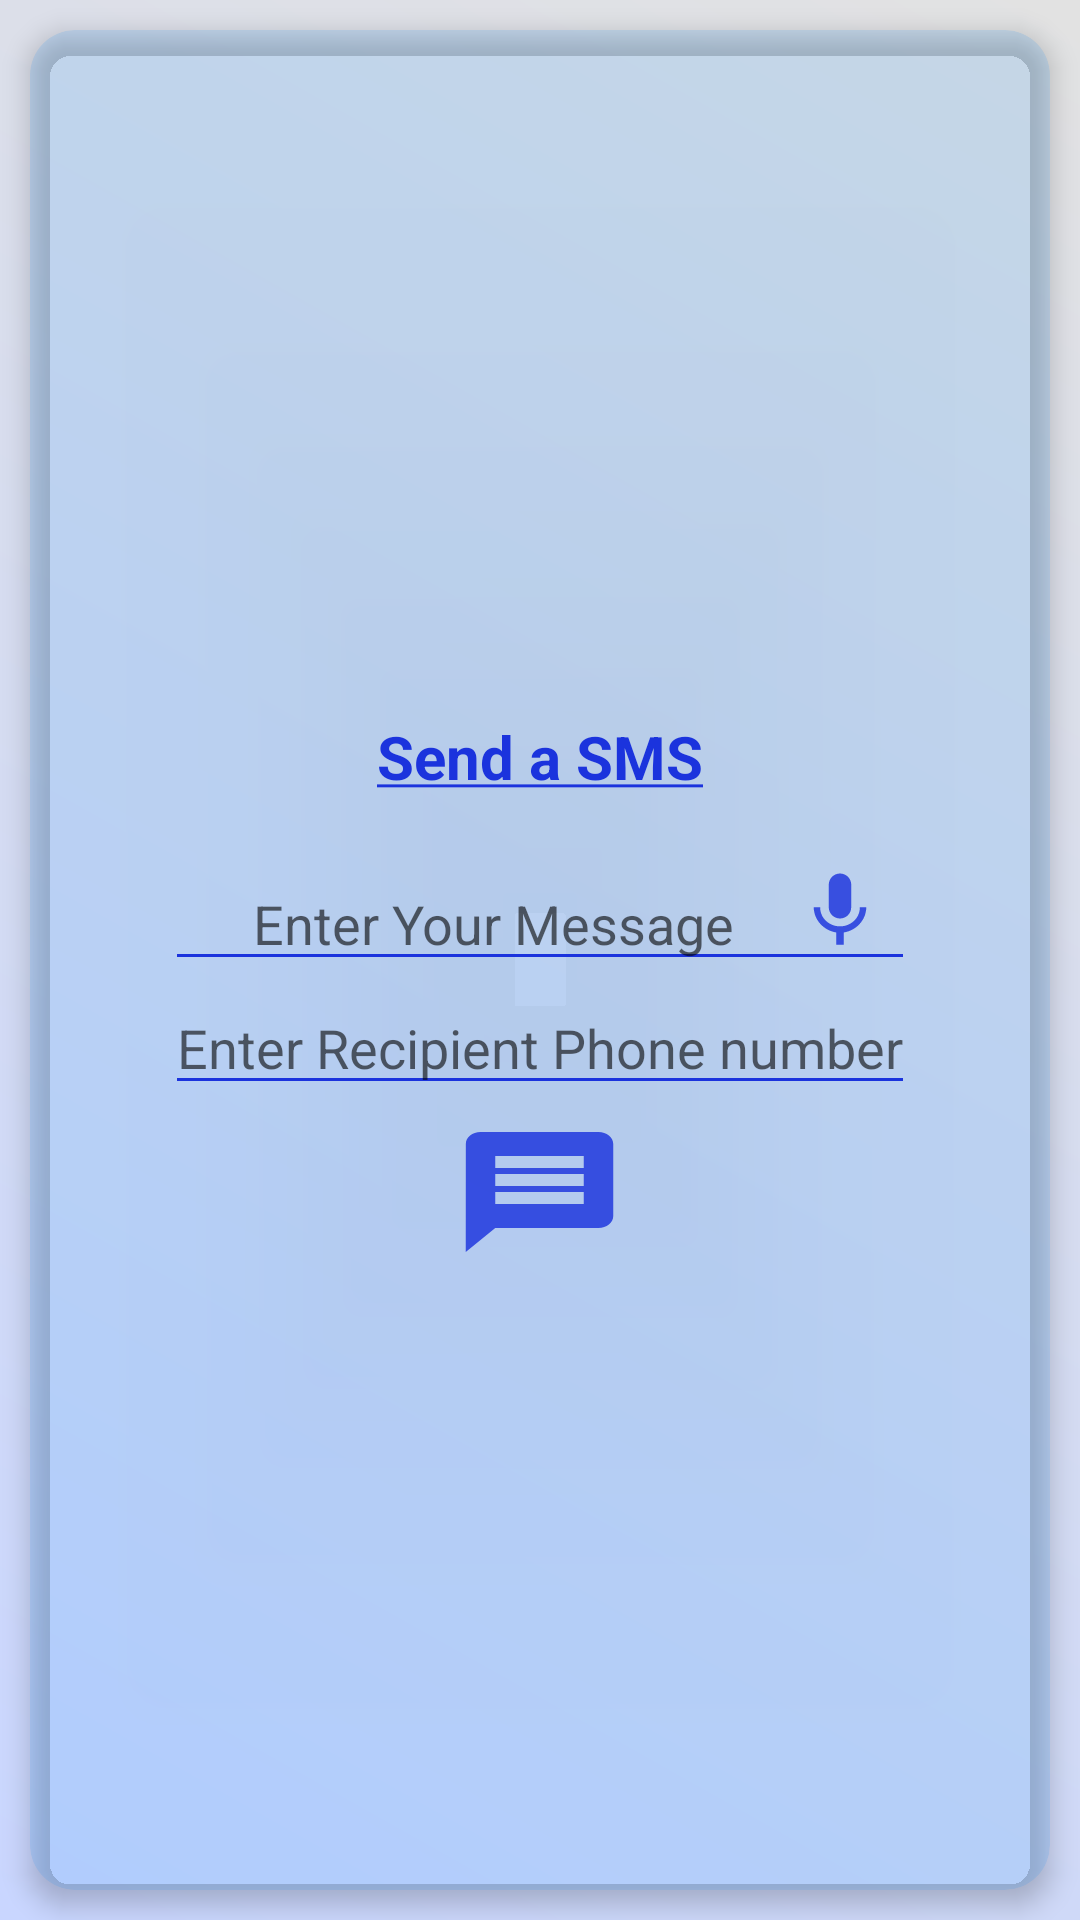

Named icons in this screenshot (1080 × 1920) and their centers, [x,y]:
mic: [840,909]
